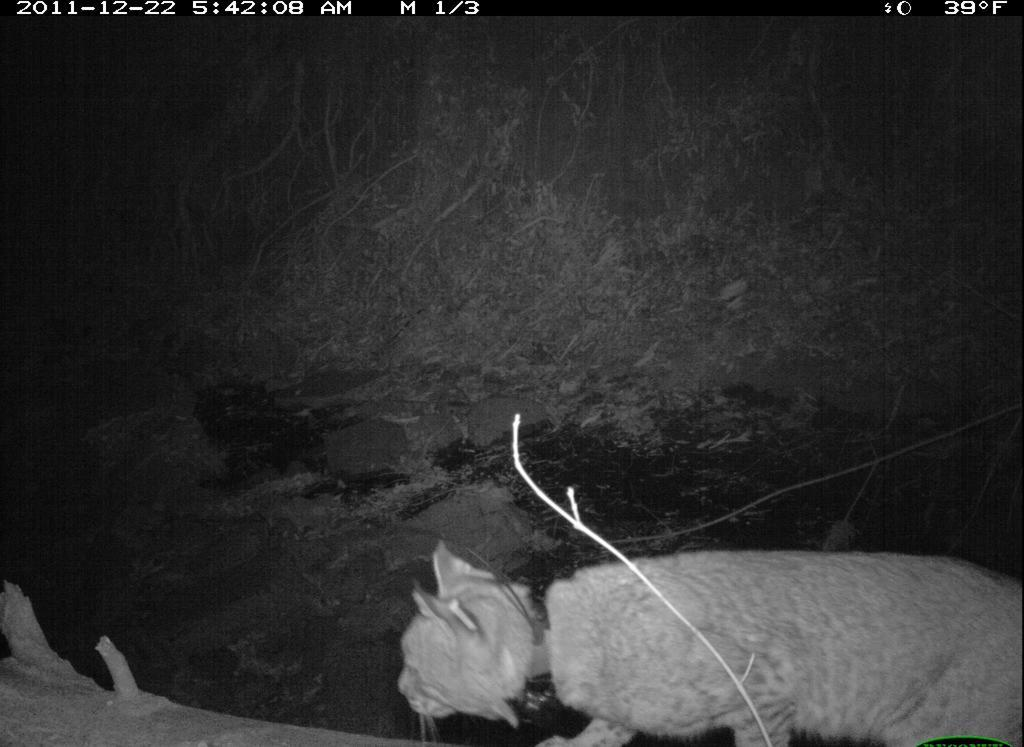bobcat: (388, 525, 1024, 747)
